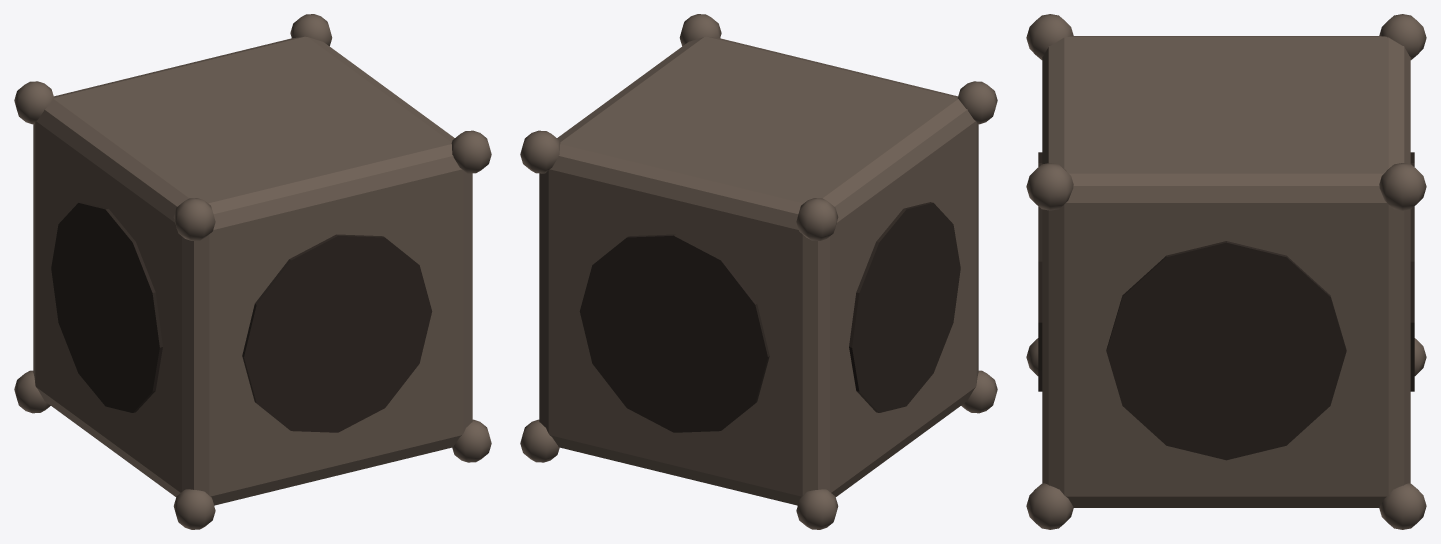
Rendered from block_used.glb.
The picture shows the model from 3 angles, left to right: view 1: azimuth 30°, elevation 25°; view 2: azimuth 150°, elevation 25°; view 3: azimuth 270°, elevation 25°; orthographic projection. The views are drawn at different scales.
Visible parts, largest first — view 1: block_used; view 2: block_used; view 3: block_used.
Boxes of the visible parts, x1,y1,x2,y2 form: block_used: [14, 14, 491, 529]; block_used: [520, 14, 997, 529]; block_used: [1026, 14, 1426, 529].
Size of the model in its own units: 1 by 1 by 1.
